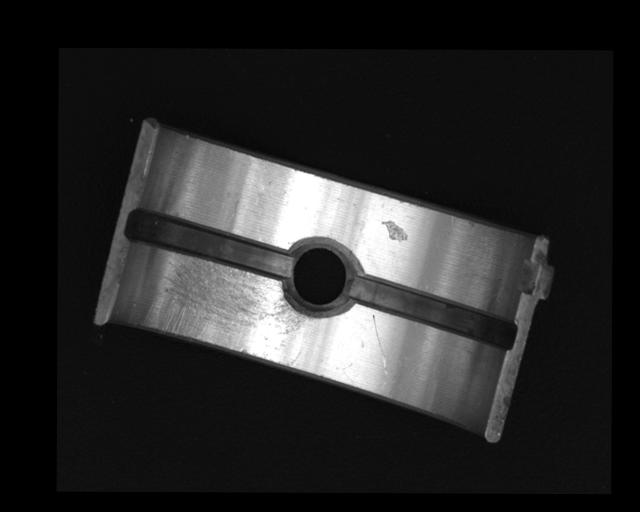bruise: (381, 220, 409, 243)
gap: (351, 272, 516, 349), (125, 207, 293, 277)
hole: (284, 236, 357, 318)
nick: (370, 313, 387, 376)
scratch: (142, 245, 307, 364)
